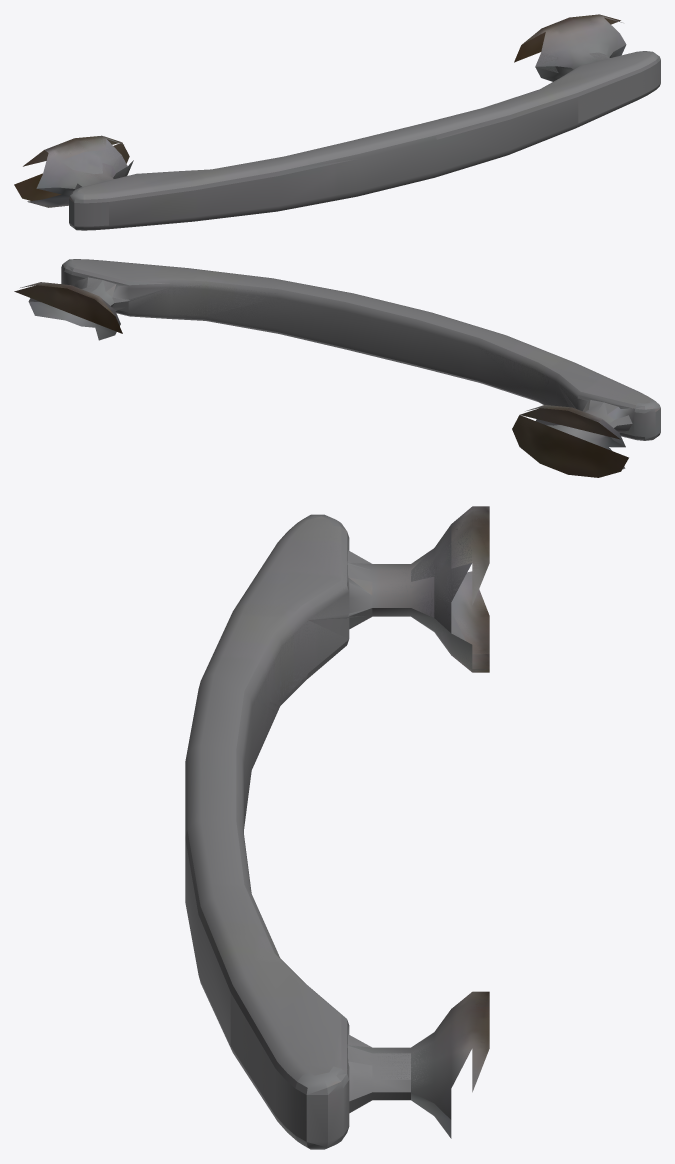
Rendered from link_1__handle-136.glb.
3 views of the same model, one above another, from view 1: azimuth 30°, elevation 25°; view 2: azimuth 150°, elevation 25°; view 3: azimuth 270°, elevation 25° (orthographic). The views are drawn at different scales.
Parts seen in each view (by area): view 1: geometry_0; view 2: geometry_0; view 3: geometry_0.
Boxes of the visible parts, x1,y1,x2,y2 form: geometry_0: (14, 14, 660, 230); geometry_0: (14, 259, 660, 477); geometry_0: (185, 506, 489, 1149).
Bounding box in the file's own units: 0.0975 × 0.00972 × 0.0212.
Materials: 1 (1 with a texture image).
